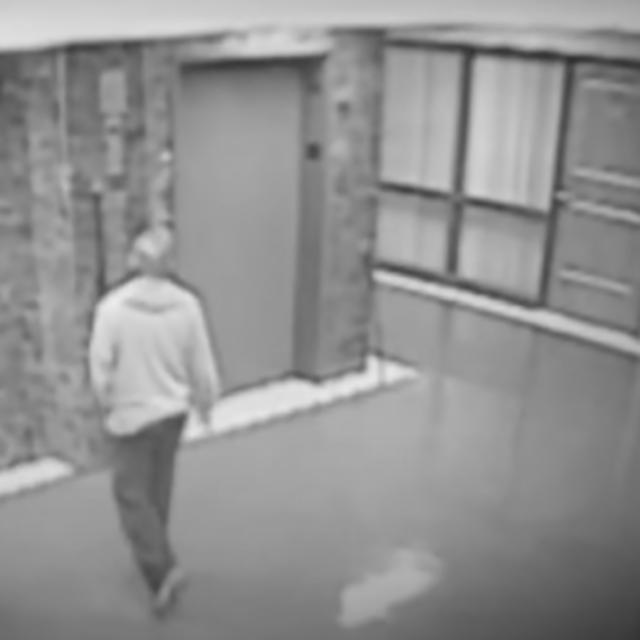Invader: (85, 225, 224, 618)
